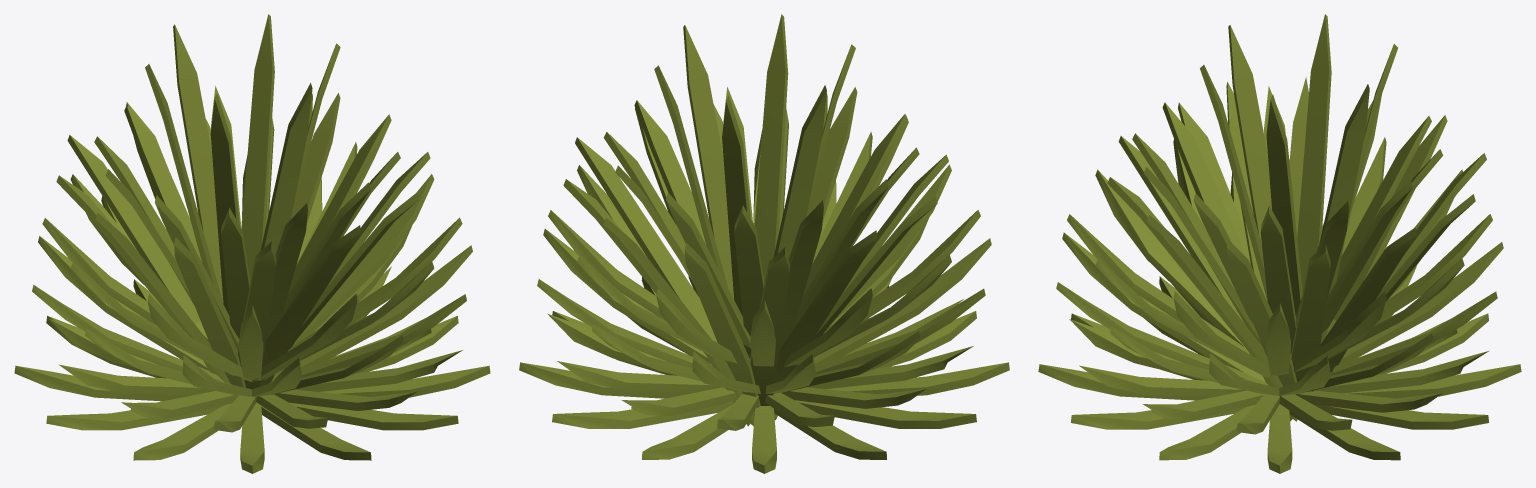
Rendered from SM_Shrub.fbx.
3 renders of one model, left to right at view 1: azimuth 30°, elevation 25°; view 2: azimuth 150°, elevation 25°; view 3: azimuth 270°, elevation 25°, orthographic. The views are drawn at different scales.
Visible parts, largest first — view 1: Shrub; view 2: Shrub; view 3: Shrub.
Boxes of the visible parts, box(x1,y1,x2,y2) form: Shrub: box(14, 14, 490, 473); Shrub: box(519, 14, 1009, 473); Shrub: box(1038, 14, 1521, 473).
Size of the model in its own units: 106 by 87.48 by 106.
